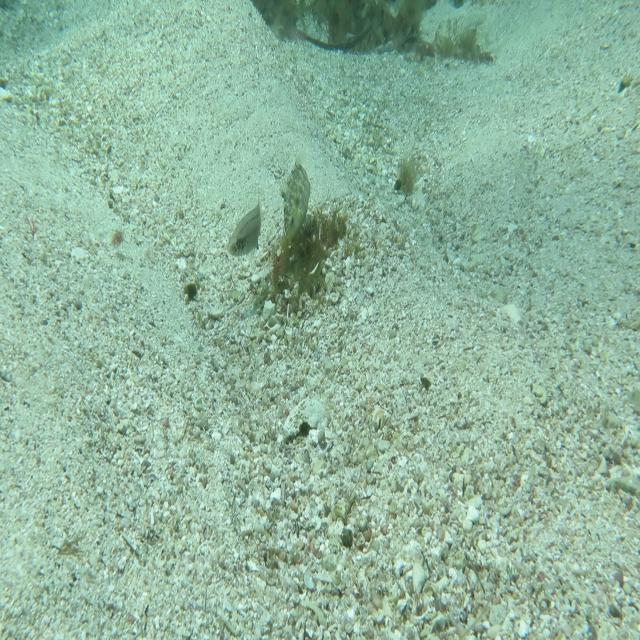ROLL: (272, 153, 314, 254)
female: (225, 192, 268, 265)
nest: (247, 192, 351, 328)
